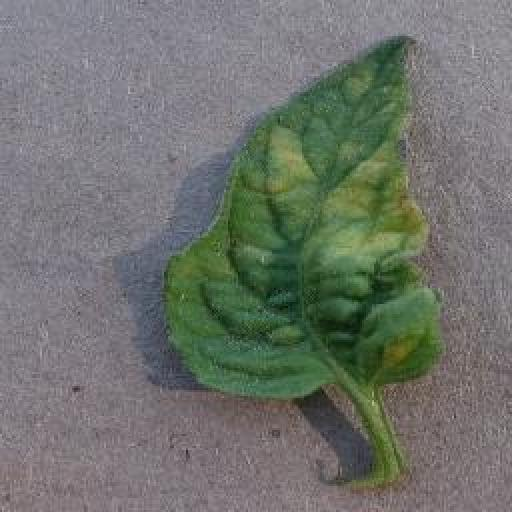disease_tomato: (162, 33, 445, 403)
